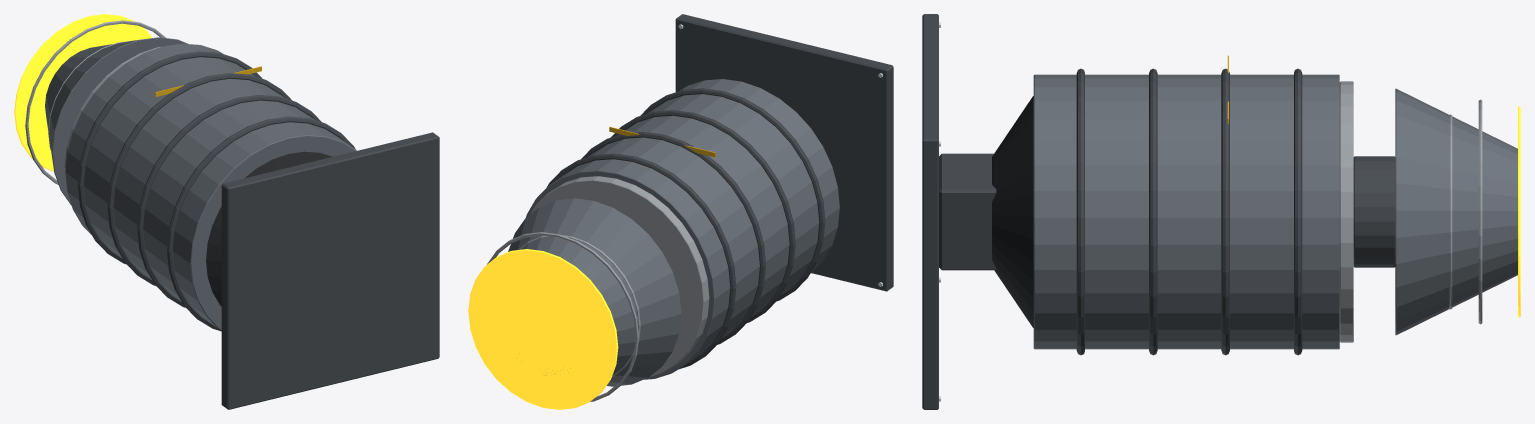
Rendered from engine_pod.glb.
The picture shows the model from 3 angles, left to right: view 1: azimuth 30°, elevation 25°; view 2: azimuth 150°, elevation 25°; view 3: azimuth 270°, elevation 25°; orthographic projection. The views are drawn at different scales.
Parts seen in each view (by area): view 1: engine_pod; view 2: engine_pod; view 3: engine_pod.
Boxes of the visible parts, x1,y1,x2,y2 form: engine_pod: (14,14,439,409); engine_pod: (468,14,893,409); engine_pod: (922,14,1520,409).
Bounding box in the file's own units: 2 × 2 × 4.
